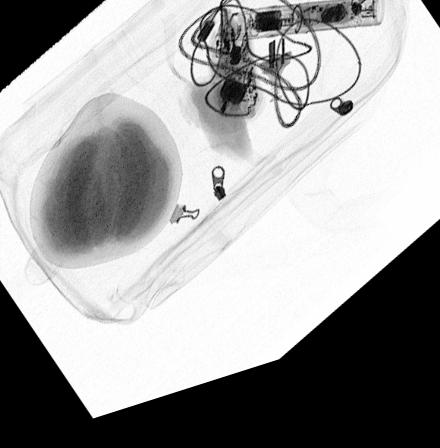Baton: (223, 19, 385, 55)
